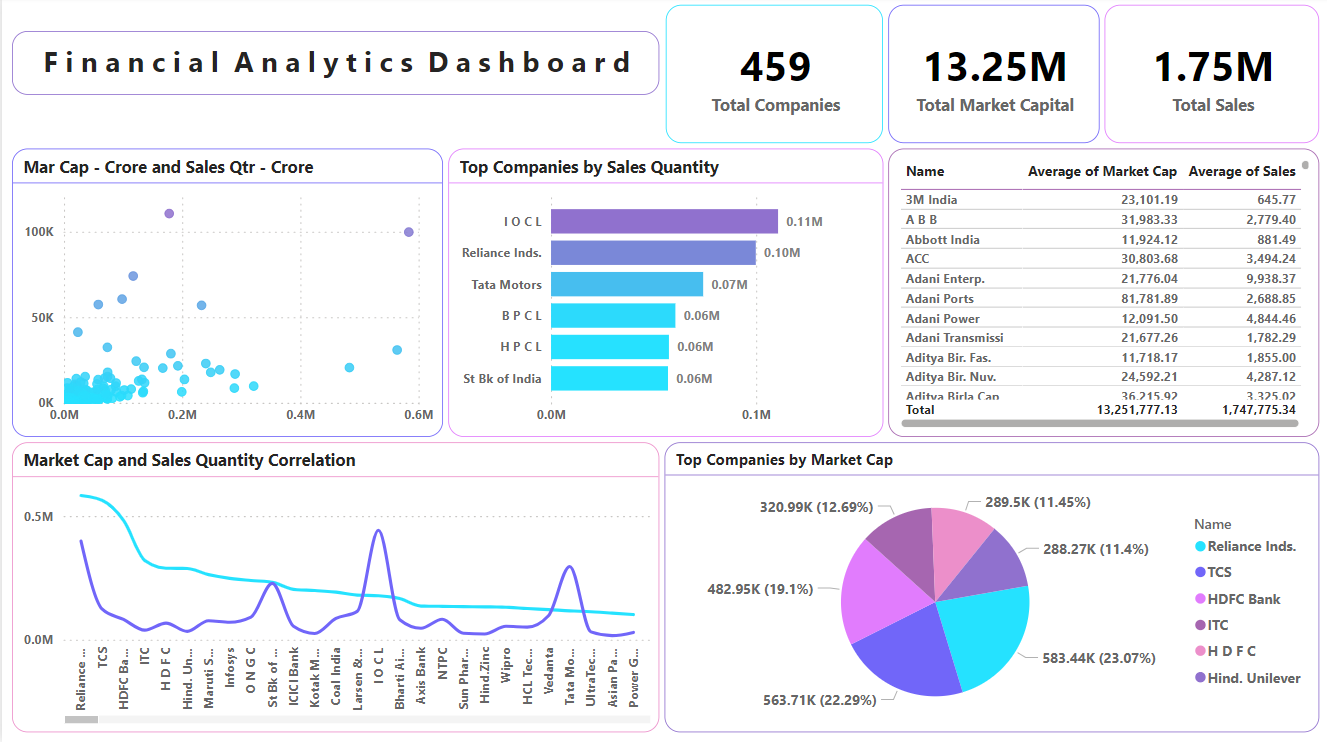

Layout of this report page (visuals, bound fields, positions):
{"tool":"powerbi","page":{"name":"Dashboards ","canvas":[1280,720],"ordinal":0},"visuals":[{"type":"lineChart","title":"Market Cap and Sales Quantity Correlation","fields":{"Category":["Financial Analytics data.Name"],"Y":["Sum(Financial Analytics data.Mar Cap - Crore)"],"Y2":["Sum(Financial Analytics data.Sales Qtr - Crore)"]},"box":[9.7,430.7,625,279.9],"z":0},{"type":"pieChart","title":"Top Companies by Market Cap","fields":{"Category":["Financial Analytics data.Name"],"Y":["Sum(Financial Analytics data.Mar Cap - Crore)"]},"box":[639.4,430.7,632.2,279.9],"z":1000},{"type":"scatterChart","title":"Mar Cap - Crore and Sales Qtr - Crore","fields":{"Category":["Financial Analytics data.Name"],"X":["Sum(Financial Analytics data.Mar Cap - Crore)"],"Y":["Sum(Financial Analytics data.Sales Qtr - Crore)"]},"box":[9.7,147.2,416.2,278.7],"z":2000},{"type":"barChart","title":"Top Companies by Sales Quantity","fields":{"Category":["Financial Analytics data.Name"],"Y":["Sum(Financial Analytics data.Sales Qtr - Crore)"]},"box":[430.7,147.2,420,278.7],"z":3000},{"type":"tableEx","fields":{"Values":["Financial Analytics data.Name","Sum(Financial Analytics data.Mar Cap - Crore)","Sum(Financial Analytics data.Sales Qtr - Crore)"]},"box":[855.4,147.2,416.2,278.7],"z":4000},{"type":"card","fields":{"Values":["Financial Analytics data.Total_Sales"]},"box":[1064.1,8.4,207.5,133.9],"z":5000},{"type":"card","fields":{"Values":["Financial Analytics data.Total_Market_Capital"]},"box":[855.4,8.4,203.9,133.9],"z":6000},{"type":"card","fields":{"Values":["Financial Analytics data.Total_Companies"]},"box":[640.6,8.4,209.9,133.9],"z":7000},{"type":"textbox","box":[9.7,33.8,624.9,61.5],"z":8000}]}

Visuals, with their boxes in screenshot pixels (x1, y1, x2, y2), scaled from the page's 1280x720 canvas onto the 1327x742 screenshot:
"Market Cap and Sales Quantity Correlation" lineChart: bbox(10, 444, 658, 732)
"Top Companies by Market Cap" pieChart: bbox(663, 444, 1318, 732)
"Mar Cap - Crore and Sales Qtr - Crore" scatterChart: bbox(10, 152, 442, 439)
"Top Companies by Sales Quantity" barChart: bbox(447, 152, 882, 439)
tableEx - Financial Analytics data.Name x Sum(Financial Analytics data.Mar Cap - Crore): bbox(887, 152, 1318, 439)
card - Financial Analytics data.Total_Sales: bbox(1103, 9, 1318, 147)
card - Financial Analytics data.Total_Market_Capital: bbox(887, 9, 1098, 147)
card - Financial Analytics data.Total_Companies: bbox(664, 9, 882, 147)
textbox: bbox(10, 35, 658, 98)
